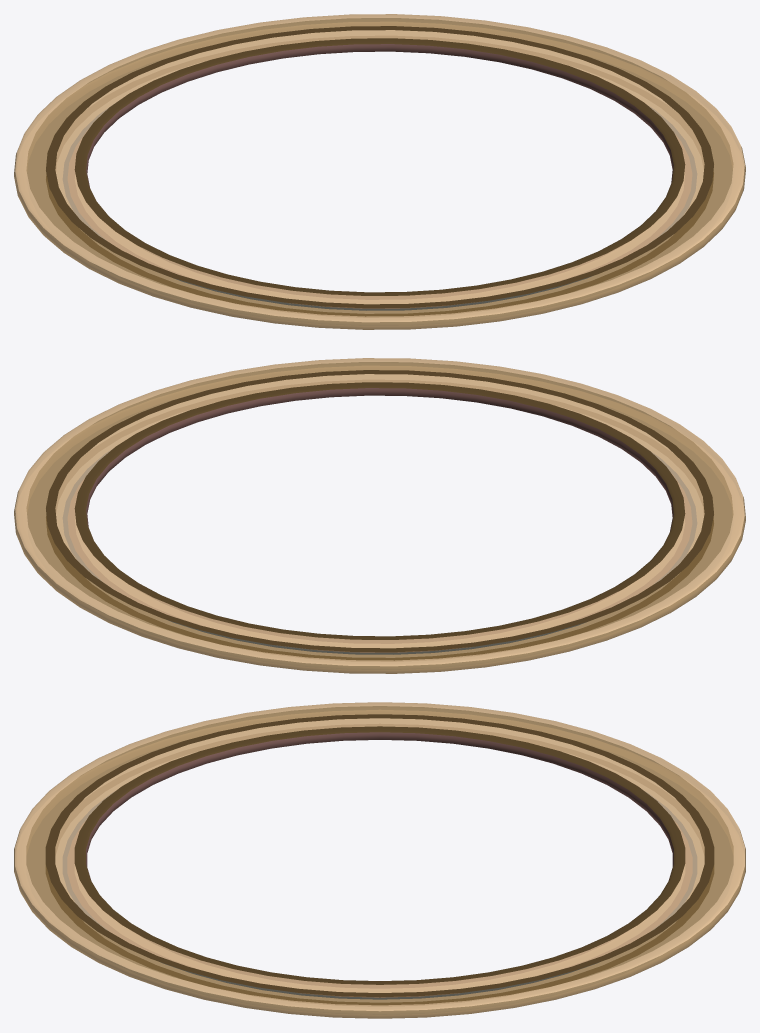
Rendered from ring.fbx.
3 views of the same model, one above another, from view 1: azimuth 30°, elevation 25°; view 2: azimuth 150°, elevation 25°; view 3: azimuth 270°, elevation 25° (orthographic).
Visible parts, largest first — view 1: pPipe1; view 2: pPipe1; view 3: pPipe1.
Boxes of the visible parts, left/top/right/bottom form: pPipe1: left=14, top=14, right=745, bottom=329; pPipe1: left=14, top=358, right=745, bottom=673; pPipe1: left=14, top=702, right=745, bottom=1018.
Bounding box in the file's own units: 21.21 × 0.3075 × 21.17.
